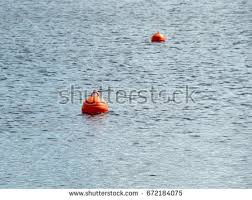buoy: (81, 94, 110, 115), (150, 32, 167, 43)
